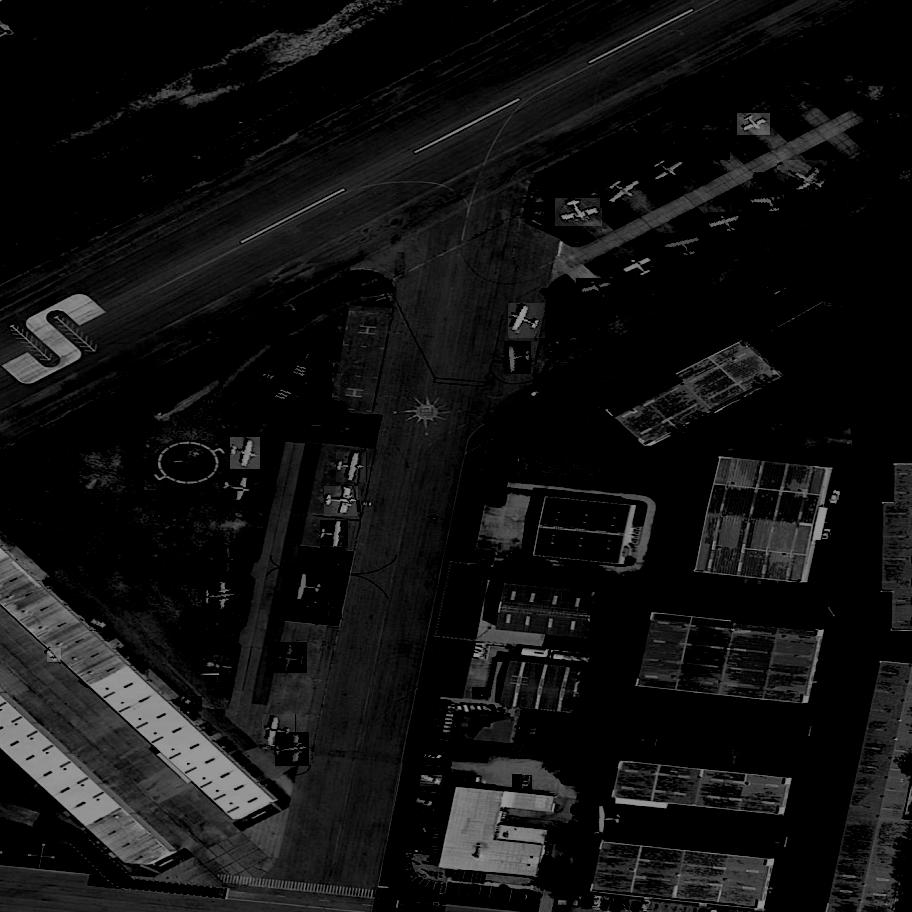plane: (223, 320, 338, 441), (778, 156, 836, 204), (642, 146, 692, 191), (602, 170, 648, 214), (685, 127, 730, 163), (618, 248, 659, 285), (508, 302, 546, 341), (662, 232, 708, 264), (556, 196, 603, 227), (706, 211, 750, 242), (576, 277, 619, 306), (747, 189, 792, 216), (289, 572, 324, 605), (221, 474, 255, 507), (337, 450, 368, 486), (230, 438, 263, 471), (263, 714, 297, 746), (273, 642, 307, 674), (324, 486, 359, 517), (276, 733, 308, 766), (203, 581, 236, 612), (589, 804, 623, 832), (504, 341, 532, 374), (738, 110, 771, 138), (208, 546, 238, 576), (321, 520, 348, 550), (313, 594, 340, 623)
small-vehicle: (181, 694, 203, 713), (89, 617, 108, 634), (421, 776, 443, 790), (828, 490, 843, 508), (47, 647, 61, 665), (472, 687, 490, 700), (497, 886, 509, 902), (416, 798, 435, 808), (581, 895, 593, 910), (424, 753, 444, 762), (513, 774, 524, 790), (413, 818, 430, 828), (572, 895, 583, 909), (411, 832, 427, 841), (704, 736, 715, 749), (641, 899, 652, 912), (592, 832, 603, 845), (592, 897, 603, 909), (520, 889, 531, 901), (419, 793, 437, 800), (531, 892, 541, 904), (724, 741, 733, 753), (822, 529, 831, 540), (603, 899, 612, 910), (524, 776, 531, 788), (412, 826, 427, 830), (622, 900, 628, 909)
